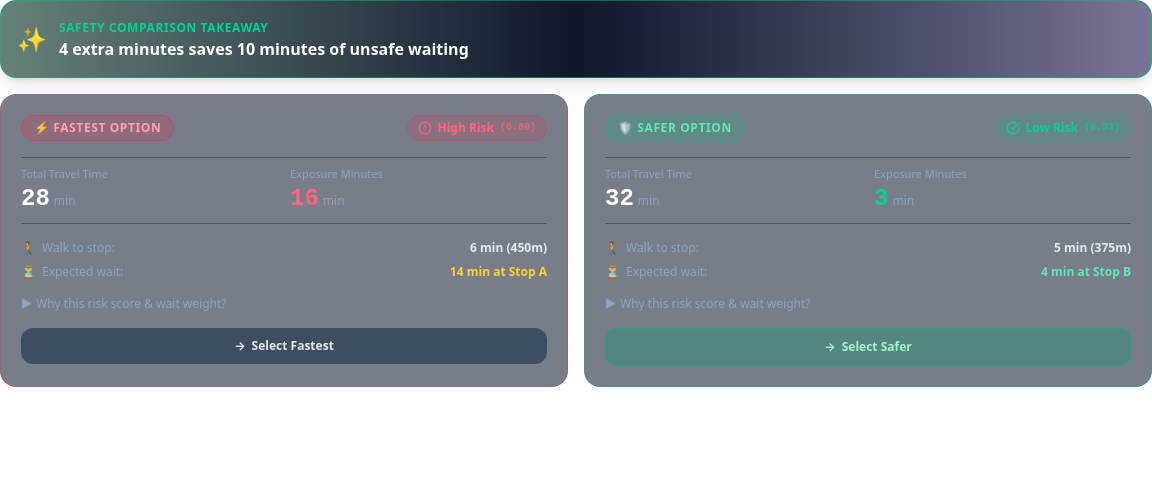
Test case: RouteCompareCard & Takeaway Banner (M4-17, M4-18, M4-21, M4-24) › expands 'Why?' drawer to show calculation details
Click the text "Why this risk score & wait weight?" below "14".
click(131, 304)  # box x1=36 y1=296 x2=226 y2=312
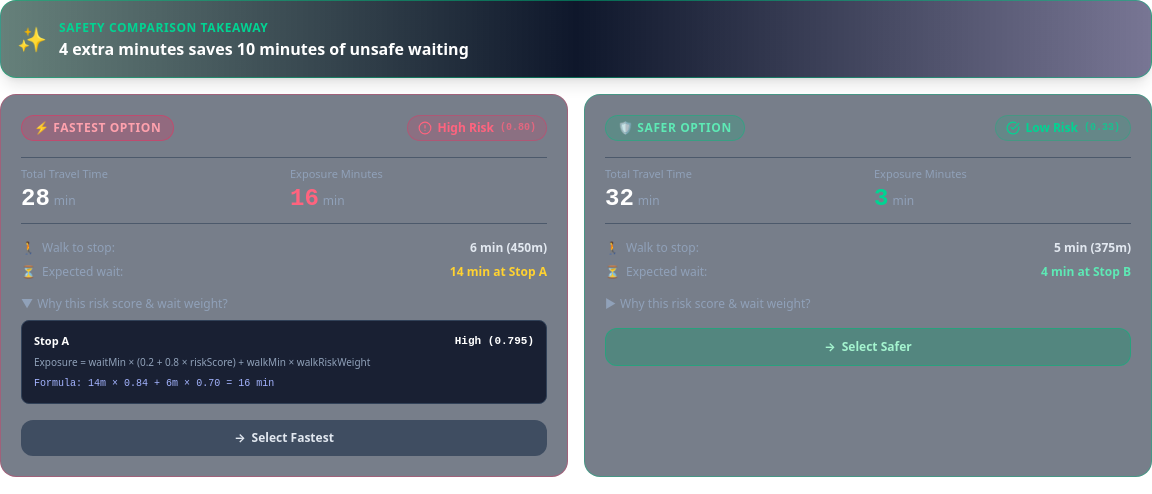
Now the text "Formula: 14m × 0.84 + 6m × 0.70 = 16 min" is shown, box x1=34 y1=378 x2=274 y2=389
